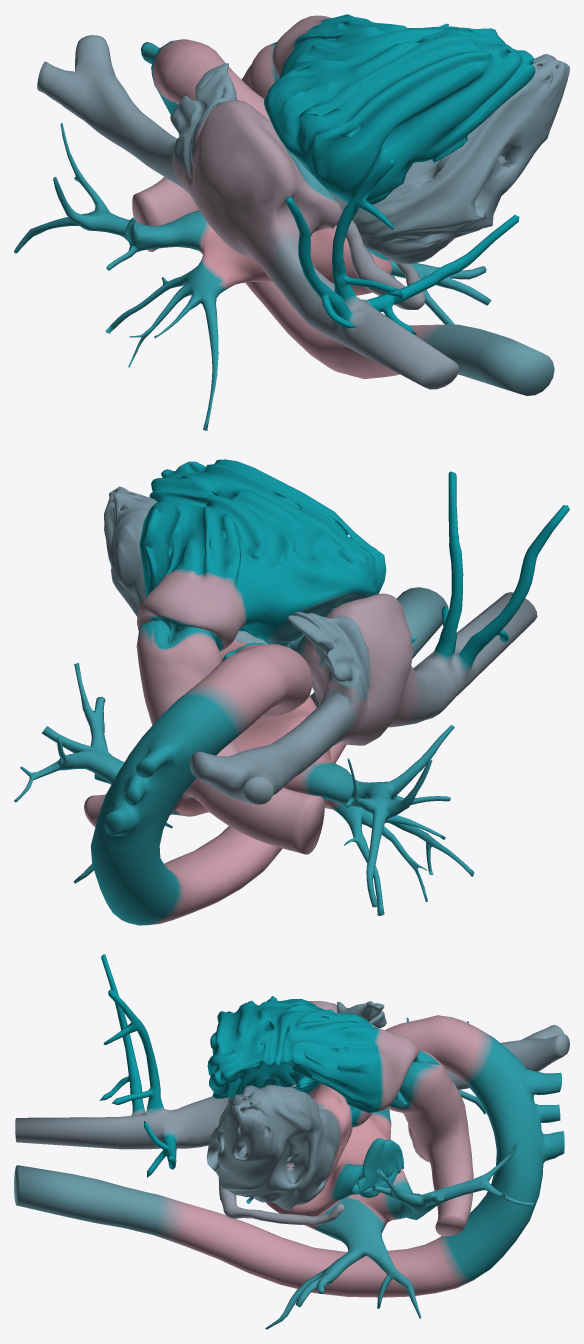
File: Heart_Inner.FBX
3 views of the same model, one above another, from view 1: azimuth 30°, elevation 25°; view 2: azimuth 150°, elevation 25°; view 3: azimuth 270°, elevation 25° (orthographic). The views are drawn at different scales.
Visible parts, largest first — view 1: Heart_Inner001; view 2: Heart_Inner001; view 3: Heart_Inner001.
Part boxes in pixels (x1,y1,x2,y2): Heart_Inner001: (14, 14, 569, 430); Heart_Inner001: (14, 459, 569, 925); Heart_Inner001: (14, 954, 569, 1329).
Bounding box in the file's own units: 162 × 133 × 227.
